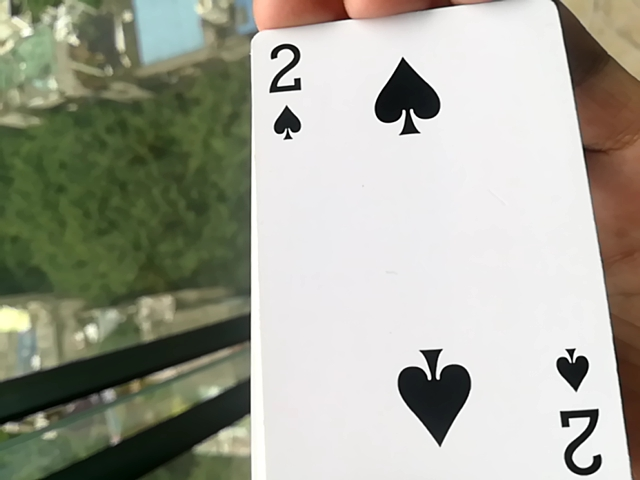ht 2: (239, 6, 631, 480)
